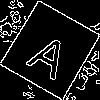A: (25, 24, 80, 81)
